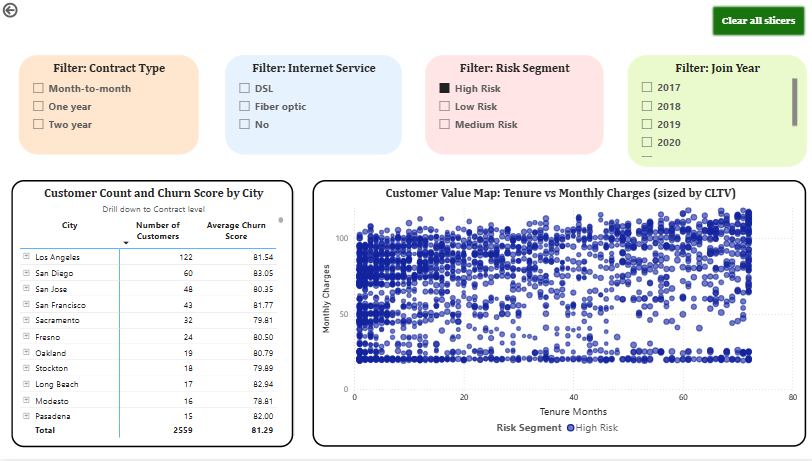

This screenshot's page, from the dashboard's own definition file:
{"tool":"powerbi","page":{"name":"Interactive Analysis","canvas":[1280,720],"ordinal":2},"visuals":[{"type":"pivotTable","title":"Customer Count and Churn Score by City","fields":{"Rows":["Dim_Location.City","Dim_Contract.Contract"],"Values":["CountNonNull(Fact_CustomerAccount.CustomerAccountKey)","Avg(Fact_CustomerAccount.Churn_Score)"]},"box":[17.4,282.6,442,418.8],"z":0},{"type":"actionButton","box":[0,0,76.8,31.9],"z":1000},{"type":"slicer","title":"Filter: Contract Type","fields":{"Values":["Dim_Contract.Contract"]},"box":[28.8,86.2,282.5,156.2],"z":2000},{"type":"slicer","title":"Filter: Internet Service","fields":{"Values":["Dim_Service.Internet_Service"]},"box":[352.5,86.2,277.5,156.2],"z":3000},{"type":"slicer","title":"Filter: Risk Segment","fields":{"Values":["Fact_CustomerAccount.Risk_Segment"]},"box":[666.2,86.2,280,156.2],"z":4000},{"type":"slicer","title":"Filter: Join Year","fields":{"Values":["Dim_Date.Year"]},"box":[983.8,86.2,281.2,175],"z":5000},{"type":"scatterChart","title":"Customer Value Map: Tenure vs Monthly Charges (sized by CLTV)","fields":{"X":["Avg(Fact_CustomerAccount.Tenure_Months)"],"Y":["Fact_CustomerAccount.Monthly_Charges"],"Size":["Avg(Fact_CustomerAccount.CLTV)"],"Series":["Fact_CustomerAccount.Risk_Segment"],"Category":["Fact_CustomerAccount.CustomerAccountKey"]},"box":[490,282.9,774.3,418.6],"z":6000},{"type":"actionButton","box":[1116.2,7.5,148.8,50],"z":7000}]}

Visuals, with their boxes in screenshot pixels (x1, y1, x2, y2), scaled from the page's 1280x720 canvas onto the 812x461 screenshot:
"Customer Count and Churn Score by City" pivotTable: [x1=11, y1=181, x2=291, y2=449]
actionButton: [x1=0, y1=0, x2=49, y2=20]
"Filter: Contract Type" slicer: [x1=18, y1=55, x2=197, y2=155]
"Filter: Internet Service" slicer: [x1=224, y1=55, x2=400, y2=155]
"Filter: Risk Segment" slicer: [x1=423, y1=55, x2=600, y2=155]
"Filter: Join Year" slicer: [x1=624, y1=55, x2=802, y2=167]
"Customer Value Map: Tenure vs Monthly Charges (sized by CLTV)" scatterChart: [x1=311, y1=181, x2=802, y2=449]
actionButton: [x1=708, y1=5, x2=802, y2=37]
